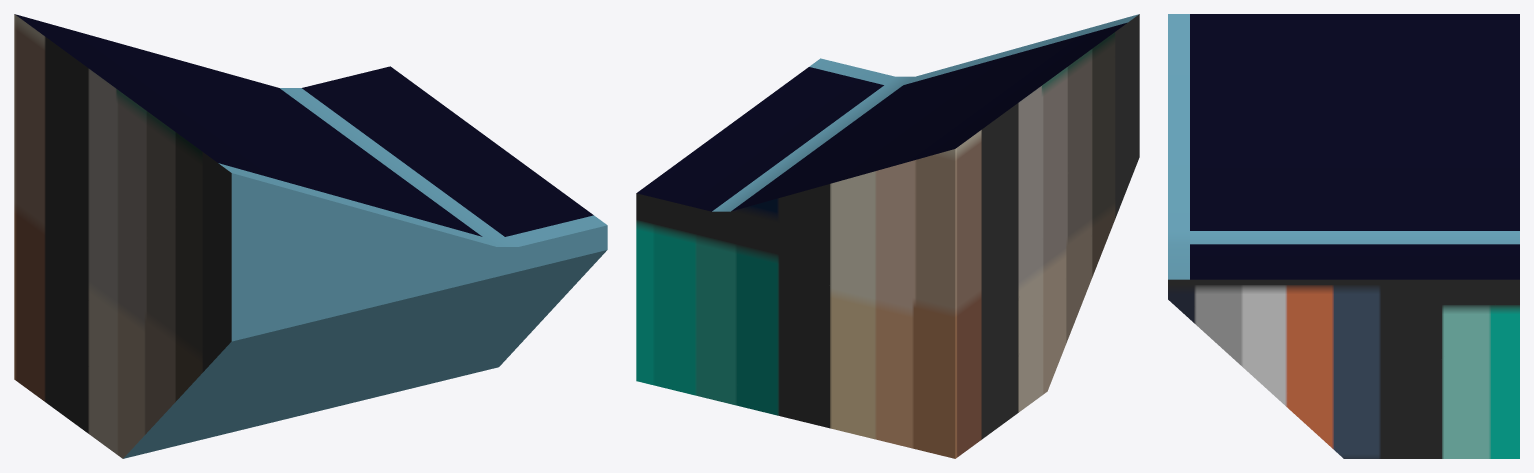
Rendered from tile_2_1_0.gltf.
3 views of the same model, side by side, from view 1: azimuth 30°, elevation 25°; view 2: azimuth 150°, elevation 25°; view 3: azimuth 270°, elevation 25° (orthographic). The views are drawn at different scales.
Parts seen in each view (by area): view 1: arena.floor.corners.016; view 2: arena.floor.corners.016; view 3: arena.floor.corners.016.
Part boxes in pixels (x1=…): arena.floor.corners.016: x1=14, y1=14, x2=607, y2=458; arena.floor.corners.016: x1=636, y1=14, x2=1139, y2=458; arena.floor.corners.016: x1=1168, y1=14, x2=1519, y2=458.
Bounding box in the file's own units: 8 × 7.43 × 8.
1 material, 1 textured.
